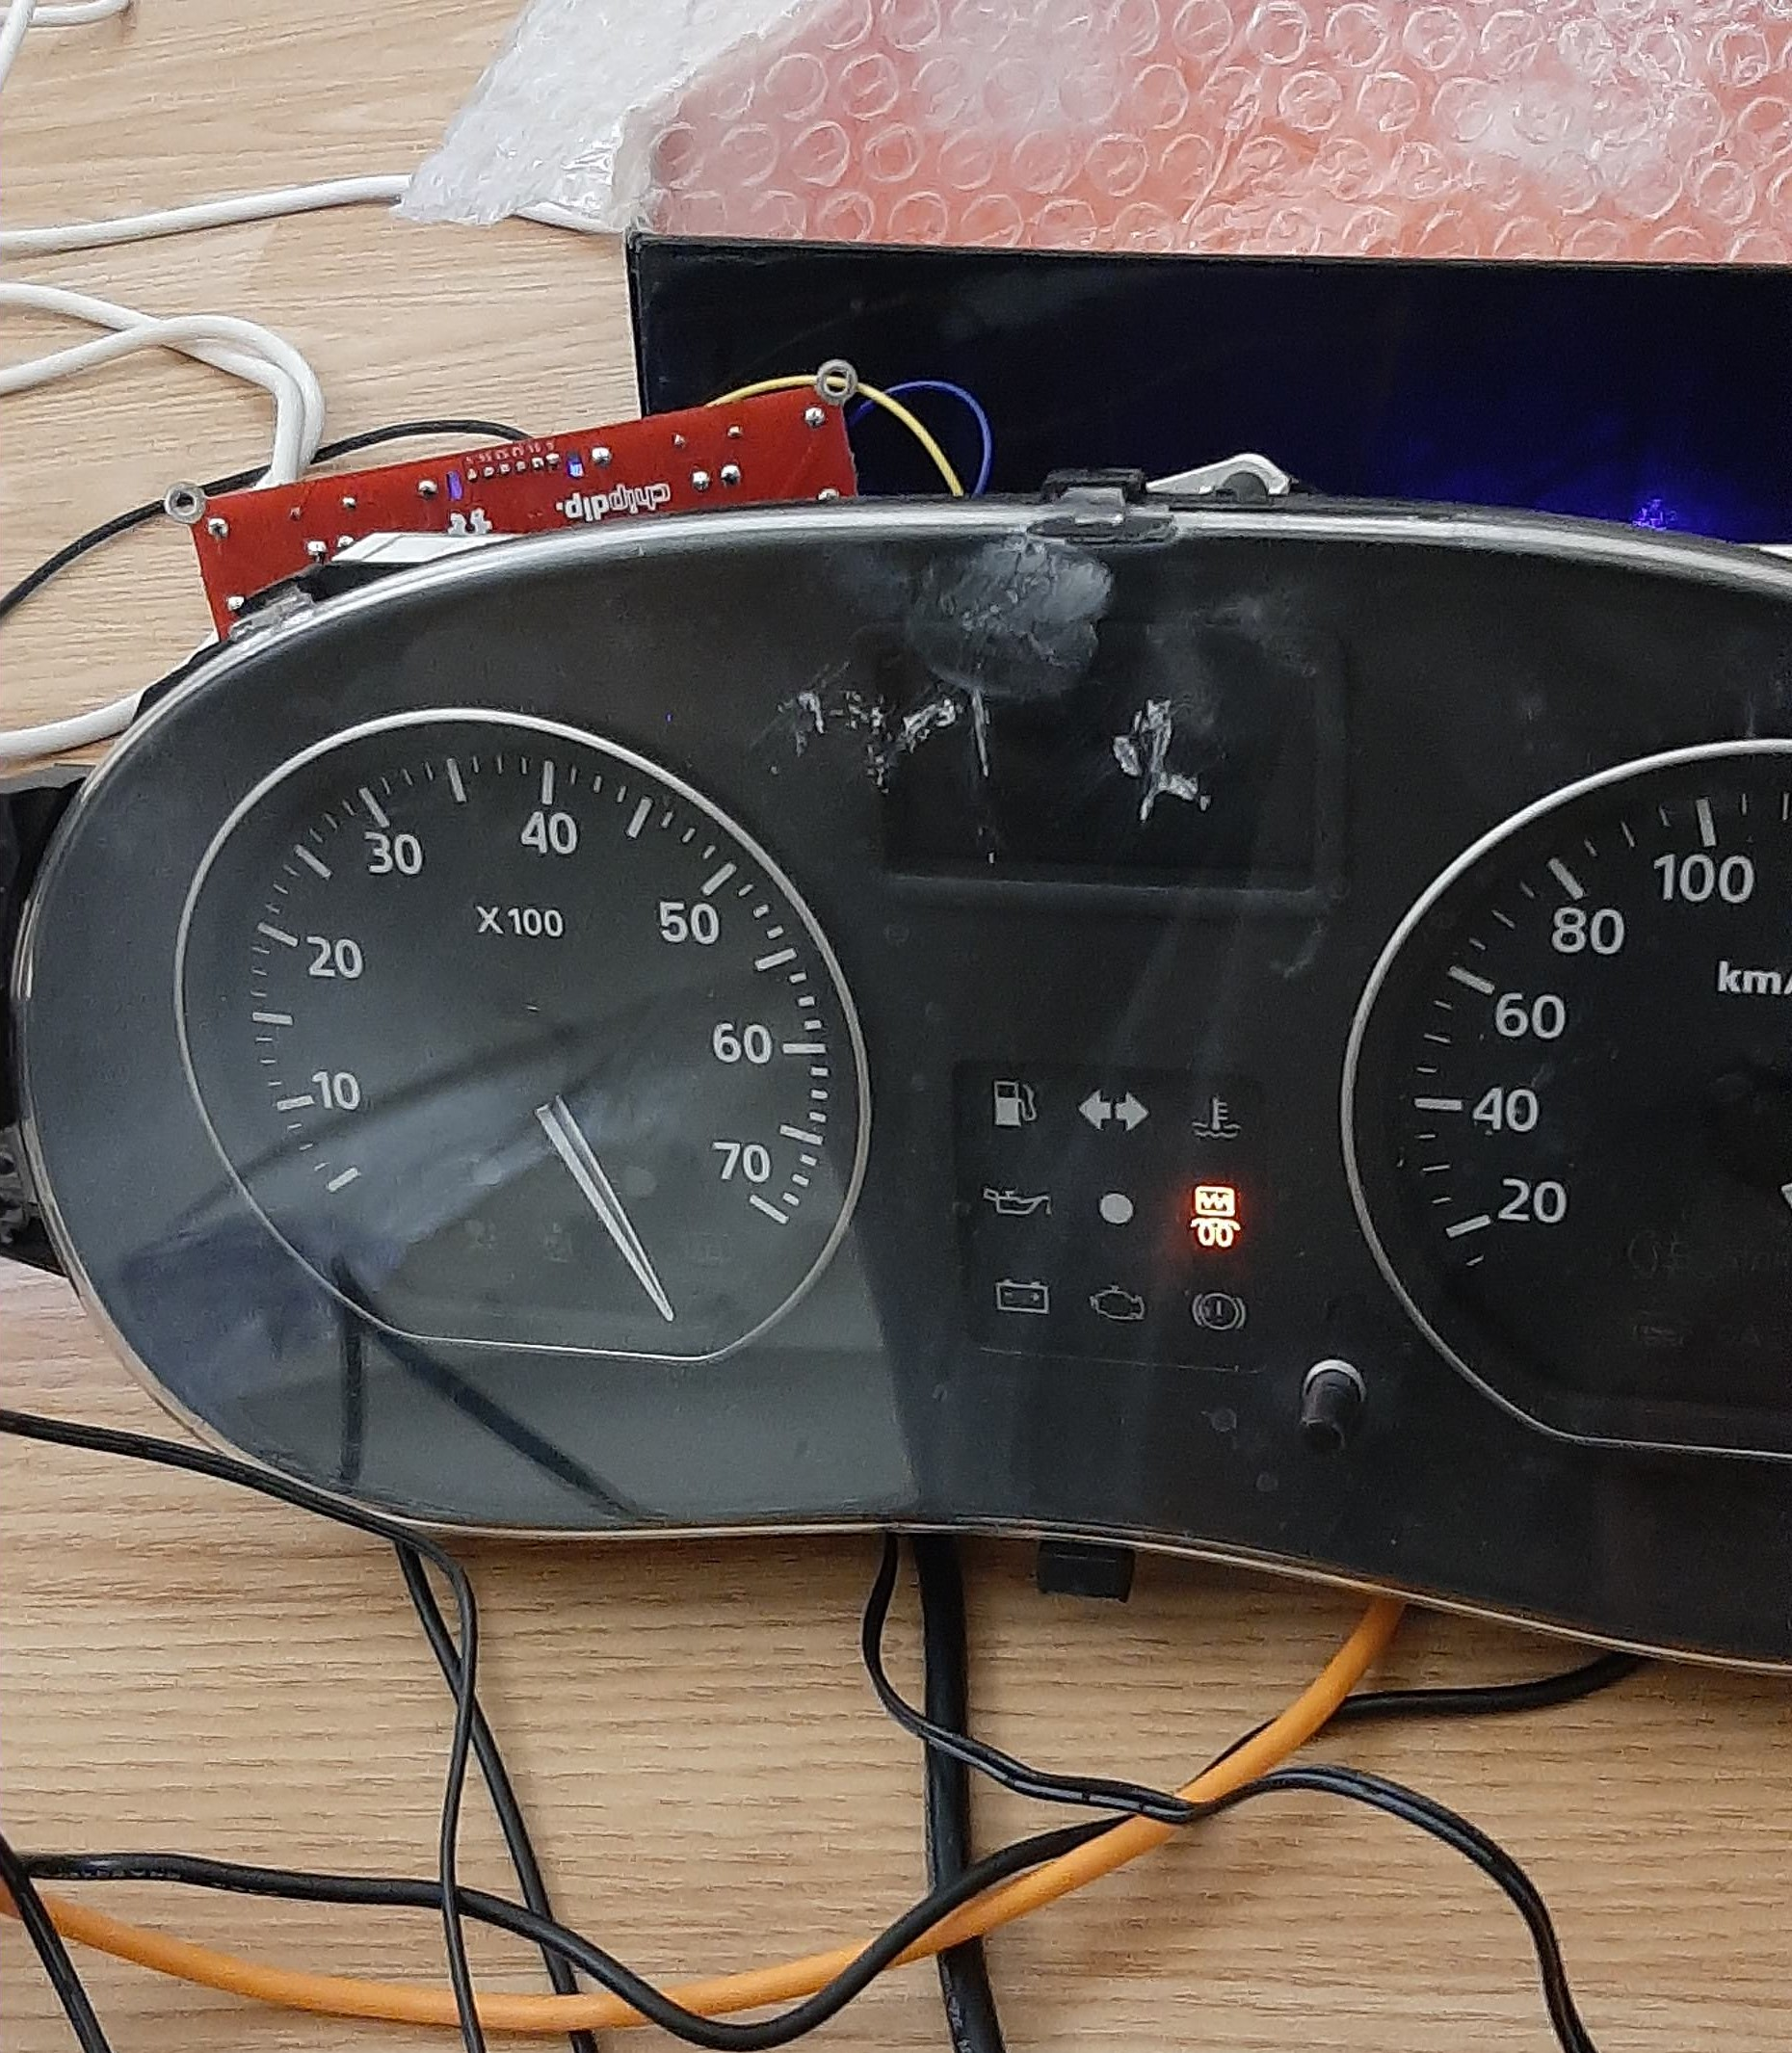diesel21: (1188, 1184, 1244, 1250)
